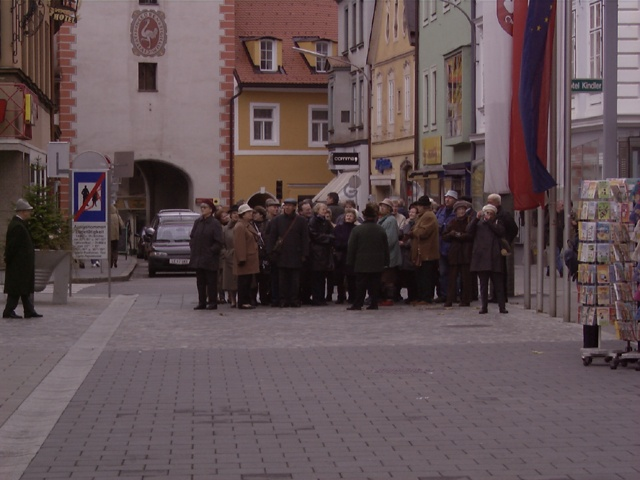person: (468, 203, 509, 312), (350, 206, 387, 310), (189, 198, 223, 311), (233, 200, 261, 307)
